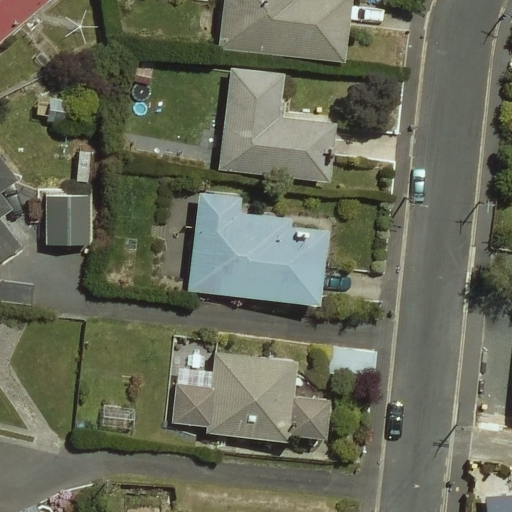DT: (397, 186, 435, 214)
